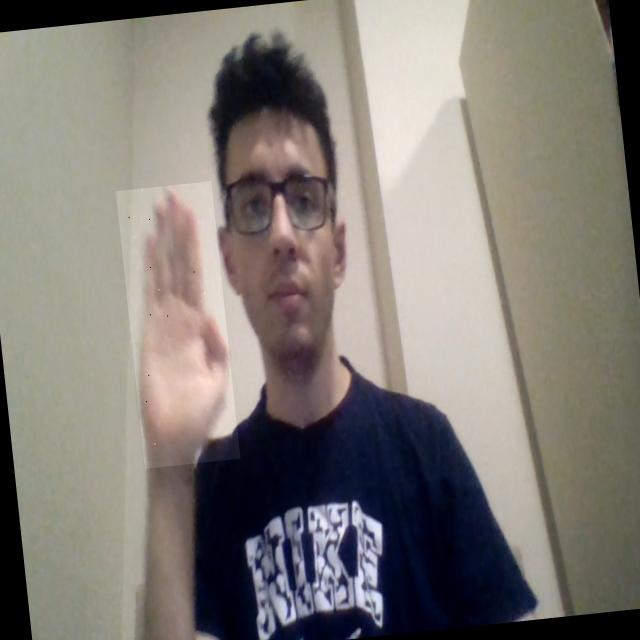hello: (115, 181, 240, 468)
